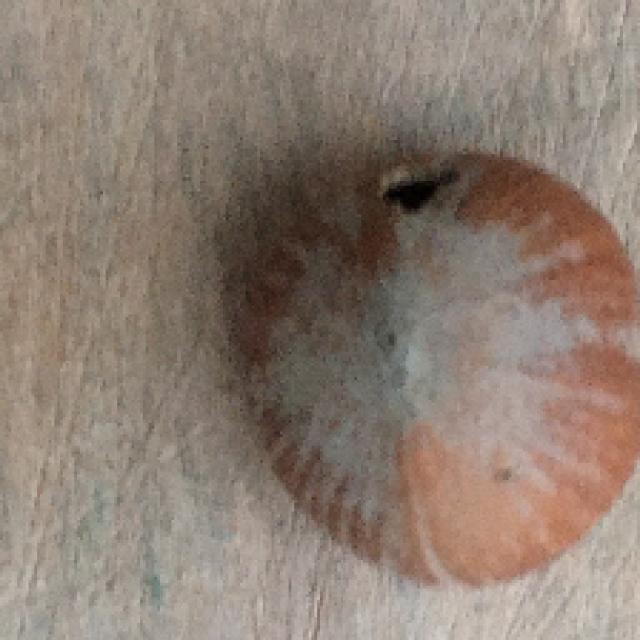damagedHazelnut: (237, 143, 640, 592)
